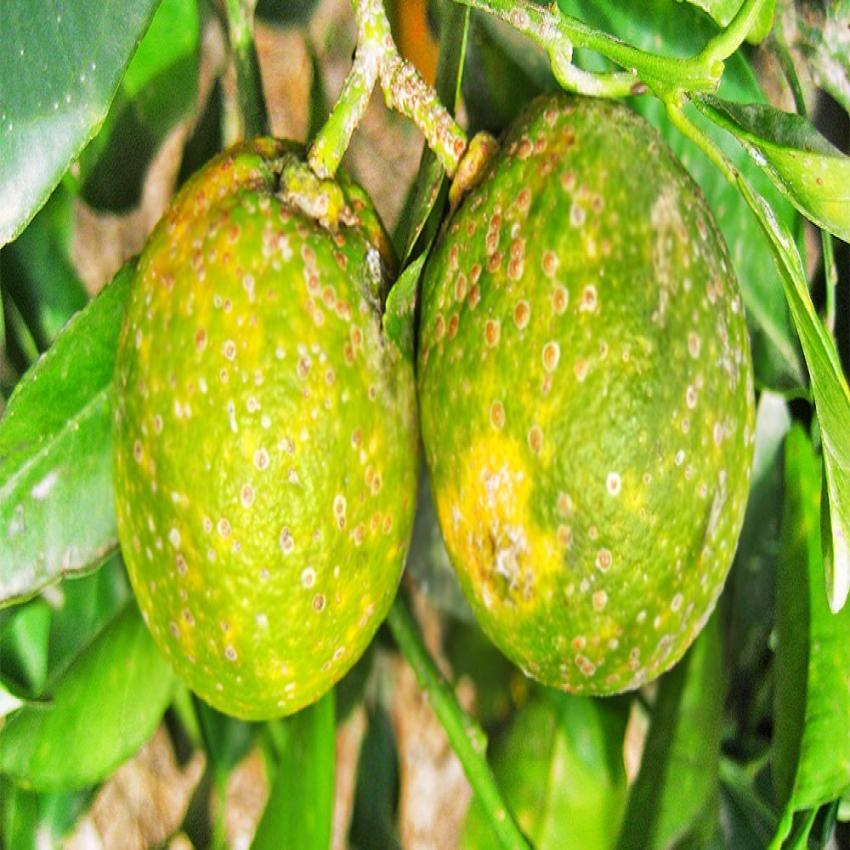Mal estado: (416, 90, 760, 733), (108, 130, 422, 738)
